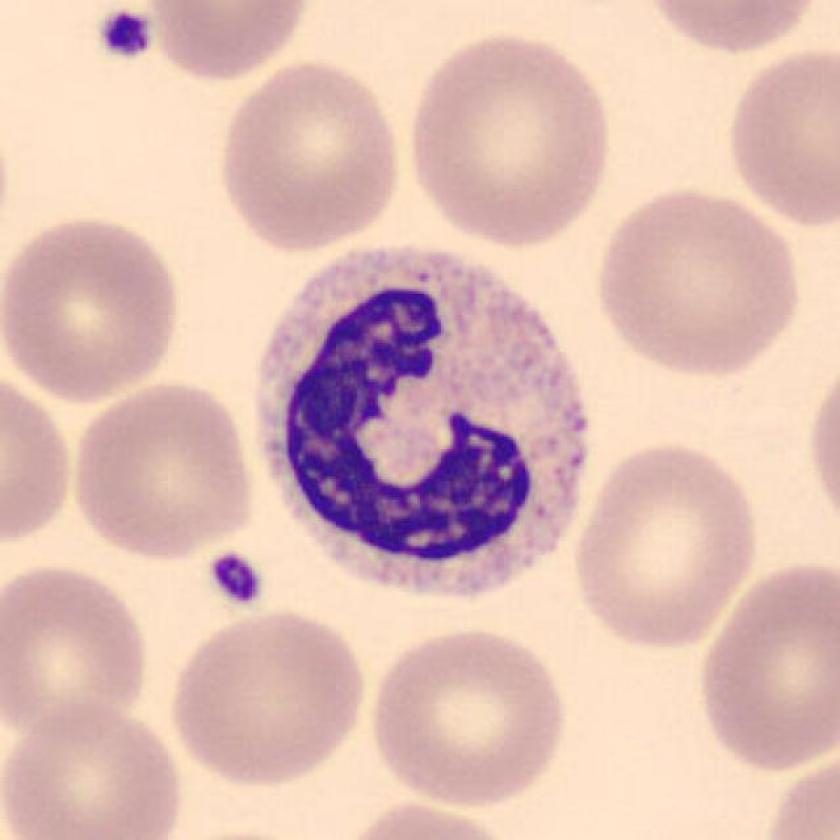neutrophil: (257, 249, 588, 596)
